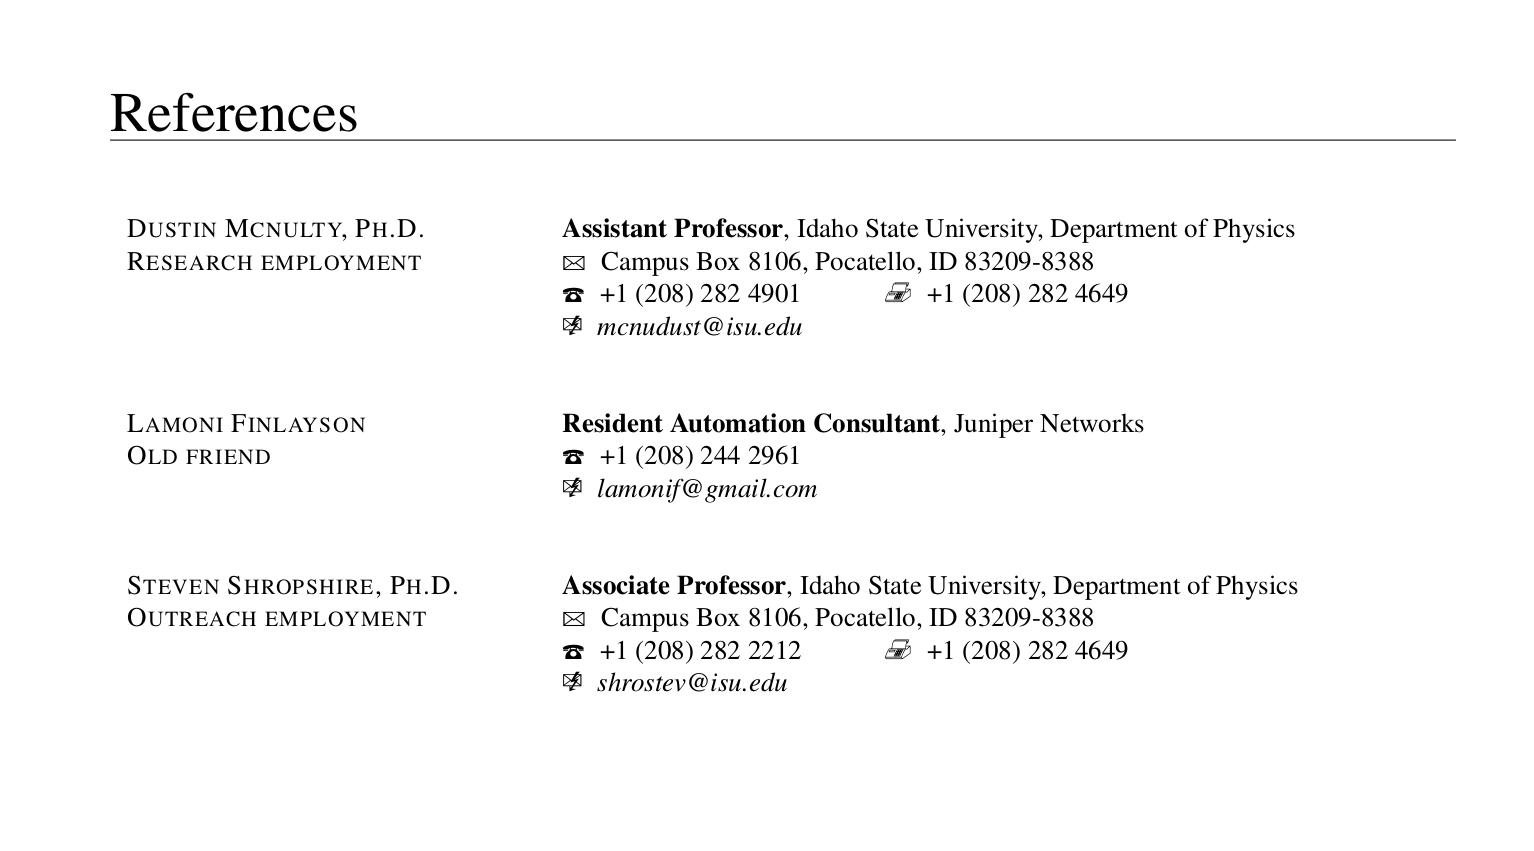bullet: (544, 599, 1099, 632), (552, 246, 1104, 271), (552, 662, 808, 696), (555, 279, 803, 311), (558, 471, 821, 501), (551, 311, 813, 341), (880, 279, 1139, 308), (878, 636, 1134, 665), (544, 634, 808, 660), (558, 441, 805, 468)
header: (118, 566, 469, 635), (120, 210, 438, 283), (118, 406, 377, 473), (107, 83, 367, 136)
section: (89, 63, 1480, 720), (113, 186, 1305, 352), (110, 550, 1340, 698), (106, 377, 1173, 524)
word: (109, 87, 361, 136), (592, 473, 827, 502), (593, 667, 799, 697), (597, 314, 808, 342), (259, 247, 430, 280), (811, 407, 947, 443), (669, 407, 811, 441), (225, 572, 388, 601), (263, 606, 437, 632), (921, 211, 1044, 246), (222, 214, 351, 247), (1044, 215, 1181, 246), (227, 409, 367, 439), (557, 208, 670, 245), (959, 604, 1097, 633), (673, 569, 795, 602), (810, 601, 927, 634), (926, 569, 1051, 601), (959, 246, 1101, 274), (670, 214, 792, 245), (126, 604, 260, 632), (1051, 572, 1184, 601), (1039, 407, 1150, 440), (125, 245, 256, 274), (555, 571, 673, 602), (810, 244, 924, 275), (561, 410, 669, 441), (947, 407, 1039, 443), (125, 409, 227, 441), (126, 570, 223, 601), (124, 214, 221, 243), (599, 248, 692, 279), (598, 605, 692, 634), (181, 443, 278, 471), (1212, 215, 1300, 244), (351, 214, 432, 243), (1213, 573, 1303, 599), (795, 569, 864, 603), (1072, 274, 1136, 309), (957, 635, 1023, 669), (388, 572, 465, 601), (632, 278, 697, 311), (1069, 631, 1132, 665), (864, 569, 926, 603), (744, 438, 808, 470), (744, 244, 810, 275), (742, 278, 808, 308), (632, 442, 698, 473), (744, 604, 810, 634), (792, 214, 861, 242), (959, 279, 1023, 309), (743, 636, 808, 665), (861, 211, 921, 242), (692, 244, 744, 279), (630, 638, 694, 667), (692, 604, 744, 634), (126, 442, 181, 471), (1023, 279, 1072, 309), (697, 278, 744, 308), (1024, 635, 1069, 665), (694, 638, 742, 664), (698, 442, 744, 470), (595, 440, 633, 473), (922, 278, 959, 309), (925, 634, 957, 669), (927, 601, 959, 633), (924, 244, 959, 274), (1181, 215, 1212, 244), (597, 279, 630, 307), (601, 637, 630, 667), (1184, 572, 1213, 599)
